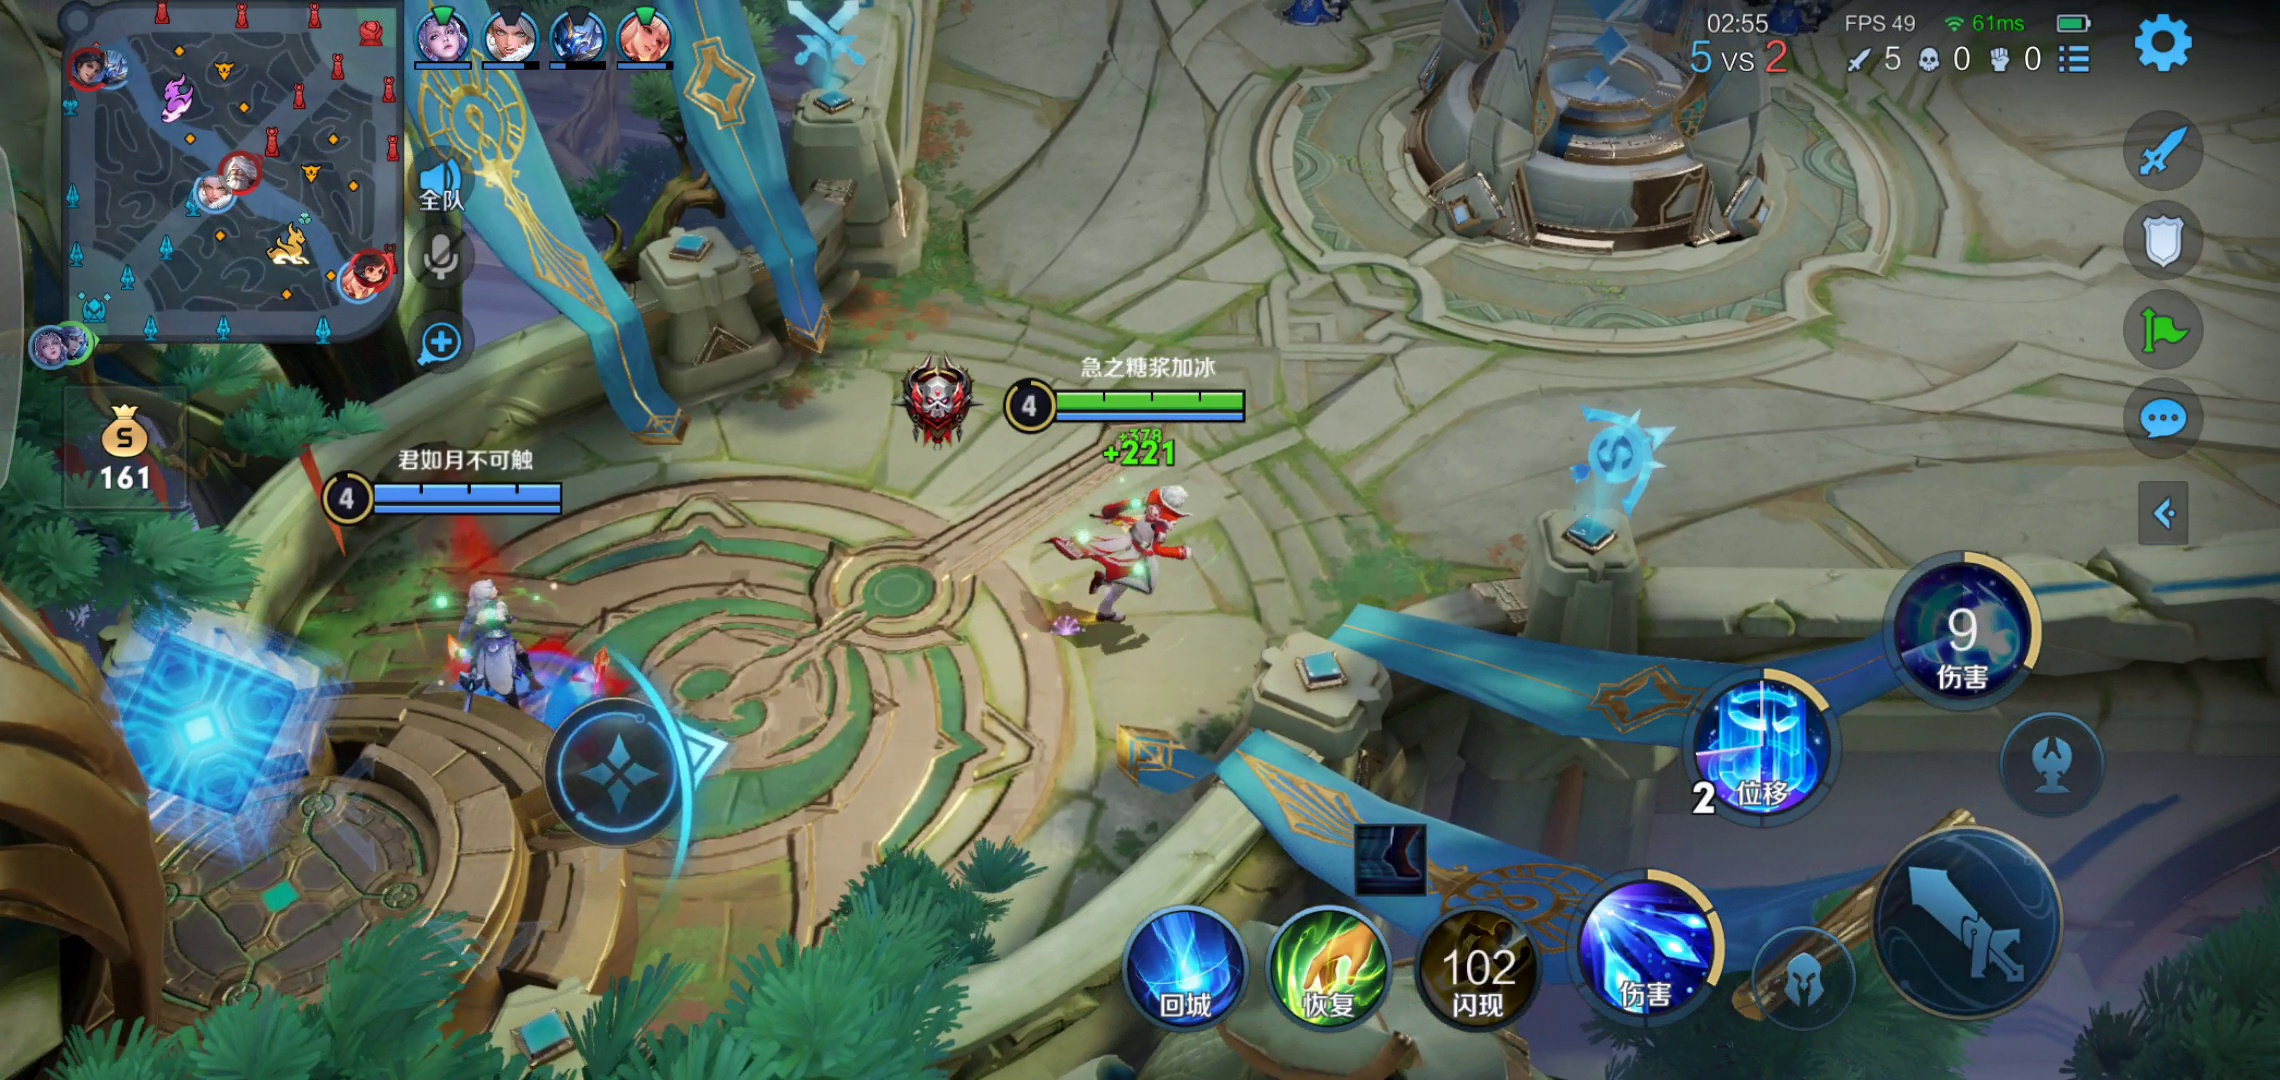crystal: (1410, 1, 1807, 251)
hero: (1031, 459, 1219, 626), (412, 573, 571, 725)
